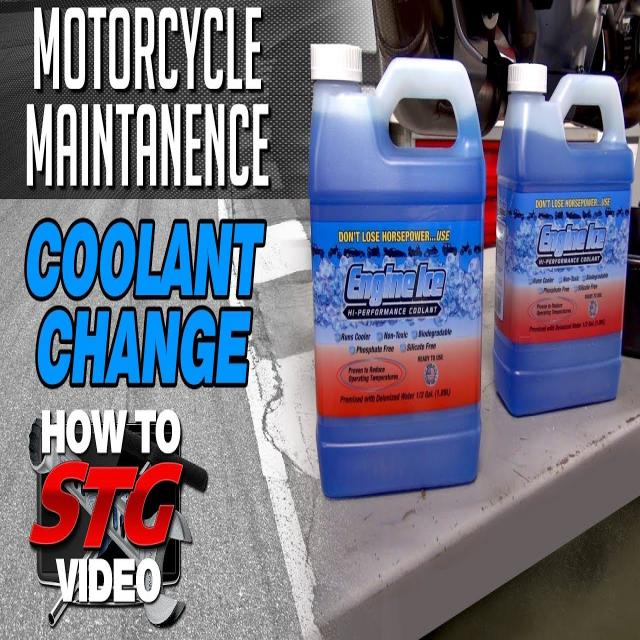coolant: (306, 38, 482, 495), (502, 58, 628, 418)
